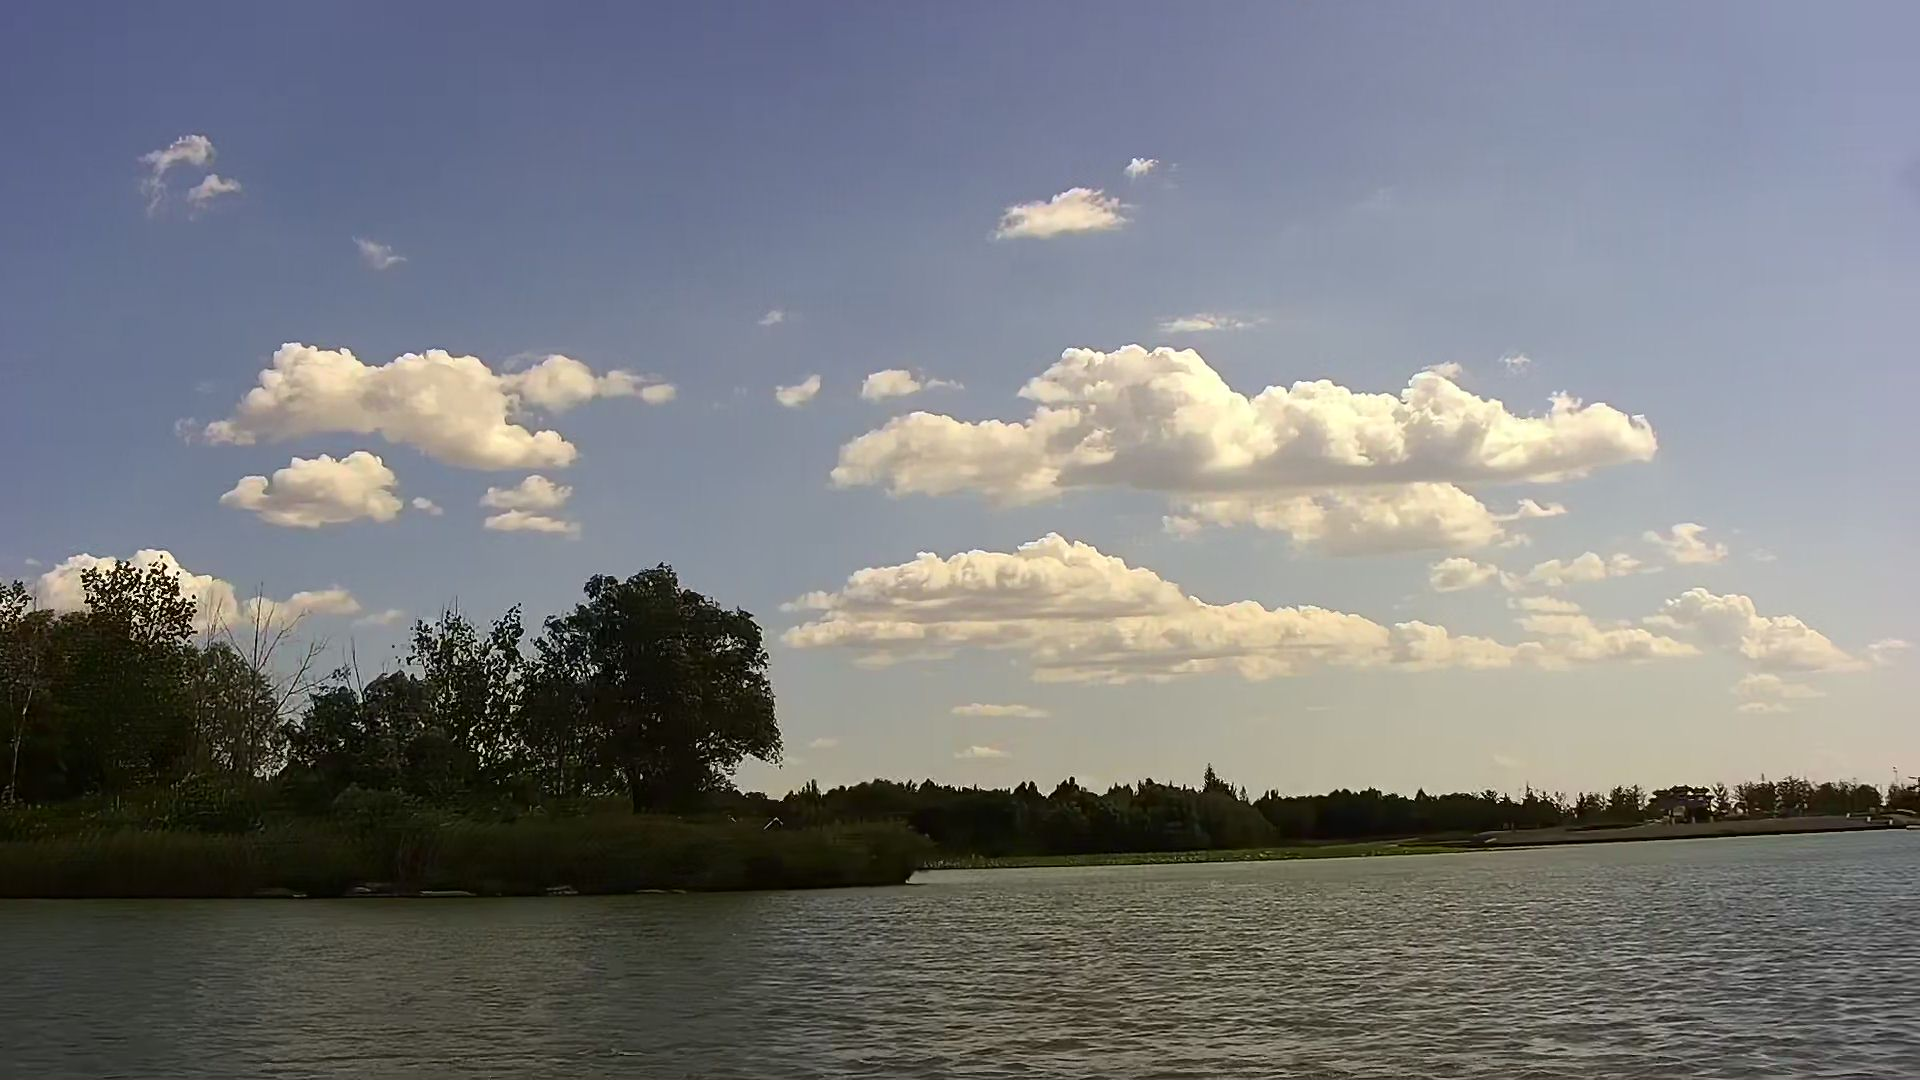rock: (419, 882, 469, 897), (640, 880, 684, 893), (348, 882, 381, 894), (549, 884, 575, 893)
